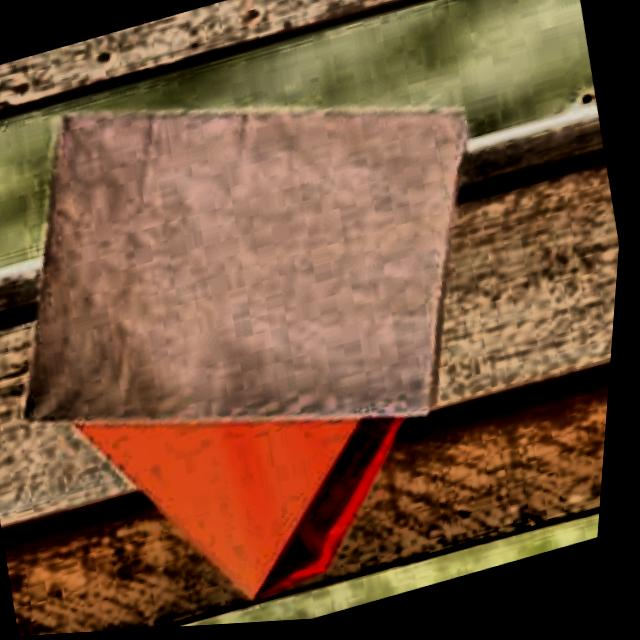Paper-bag: (0, 0, 568, 554), (5, 146, 496, 638)
